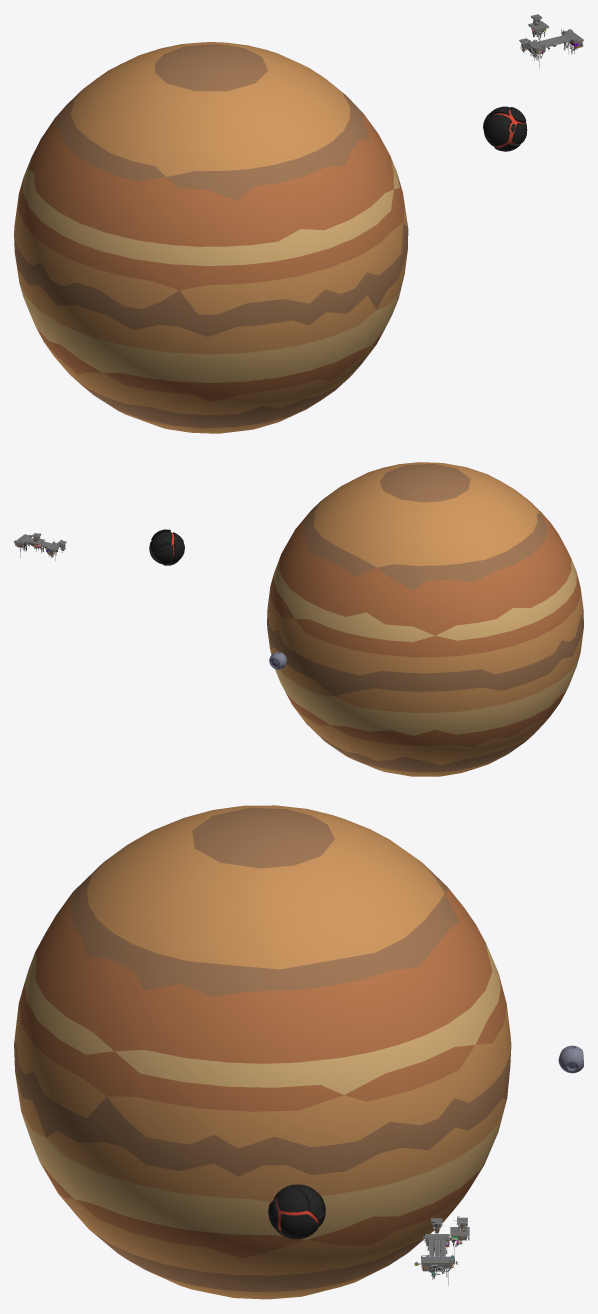
The picture shows the model from 3 angles, top to bottom: view 1: azimuth 30°, elevation 25°; view 2: azimuth 150°, elevation 25°; view 3: azimuth 270°, elevation 25°; orthographic projection. The views are drawn at different scales.
Visible parts, largest first — view 1: planet_6_geometry, planet_11_geometry; view 2: planet_6_geometry, planet_11_geometry; view 3: planet_6_geometry, planet_11_geometry, Platform_4x2_geometry.
Part boxes in pixels (x1,y1,x2,y2): planet_6_geometry: (14, 42, 408, 433); planet_11_geometry: (483, 106, 527, 151); planet_6_geometry: (267, 462, 583, 776); planet_11_geometry: (149, 529, 184, 565); planet_6_geometry: (14, 805, 511, 1299); planet_11_geometry: (268, 1184, 325, 1239); Platform_4x2_geometry: (414, 1247, 458, 1285).
Bounding box in the file's own units: 174 × 97.59 × 112.
27 materials, 5 textured.
